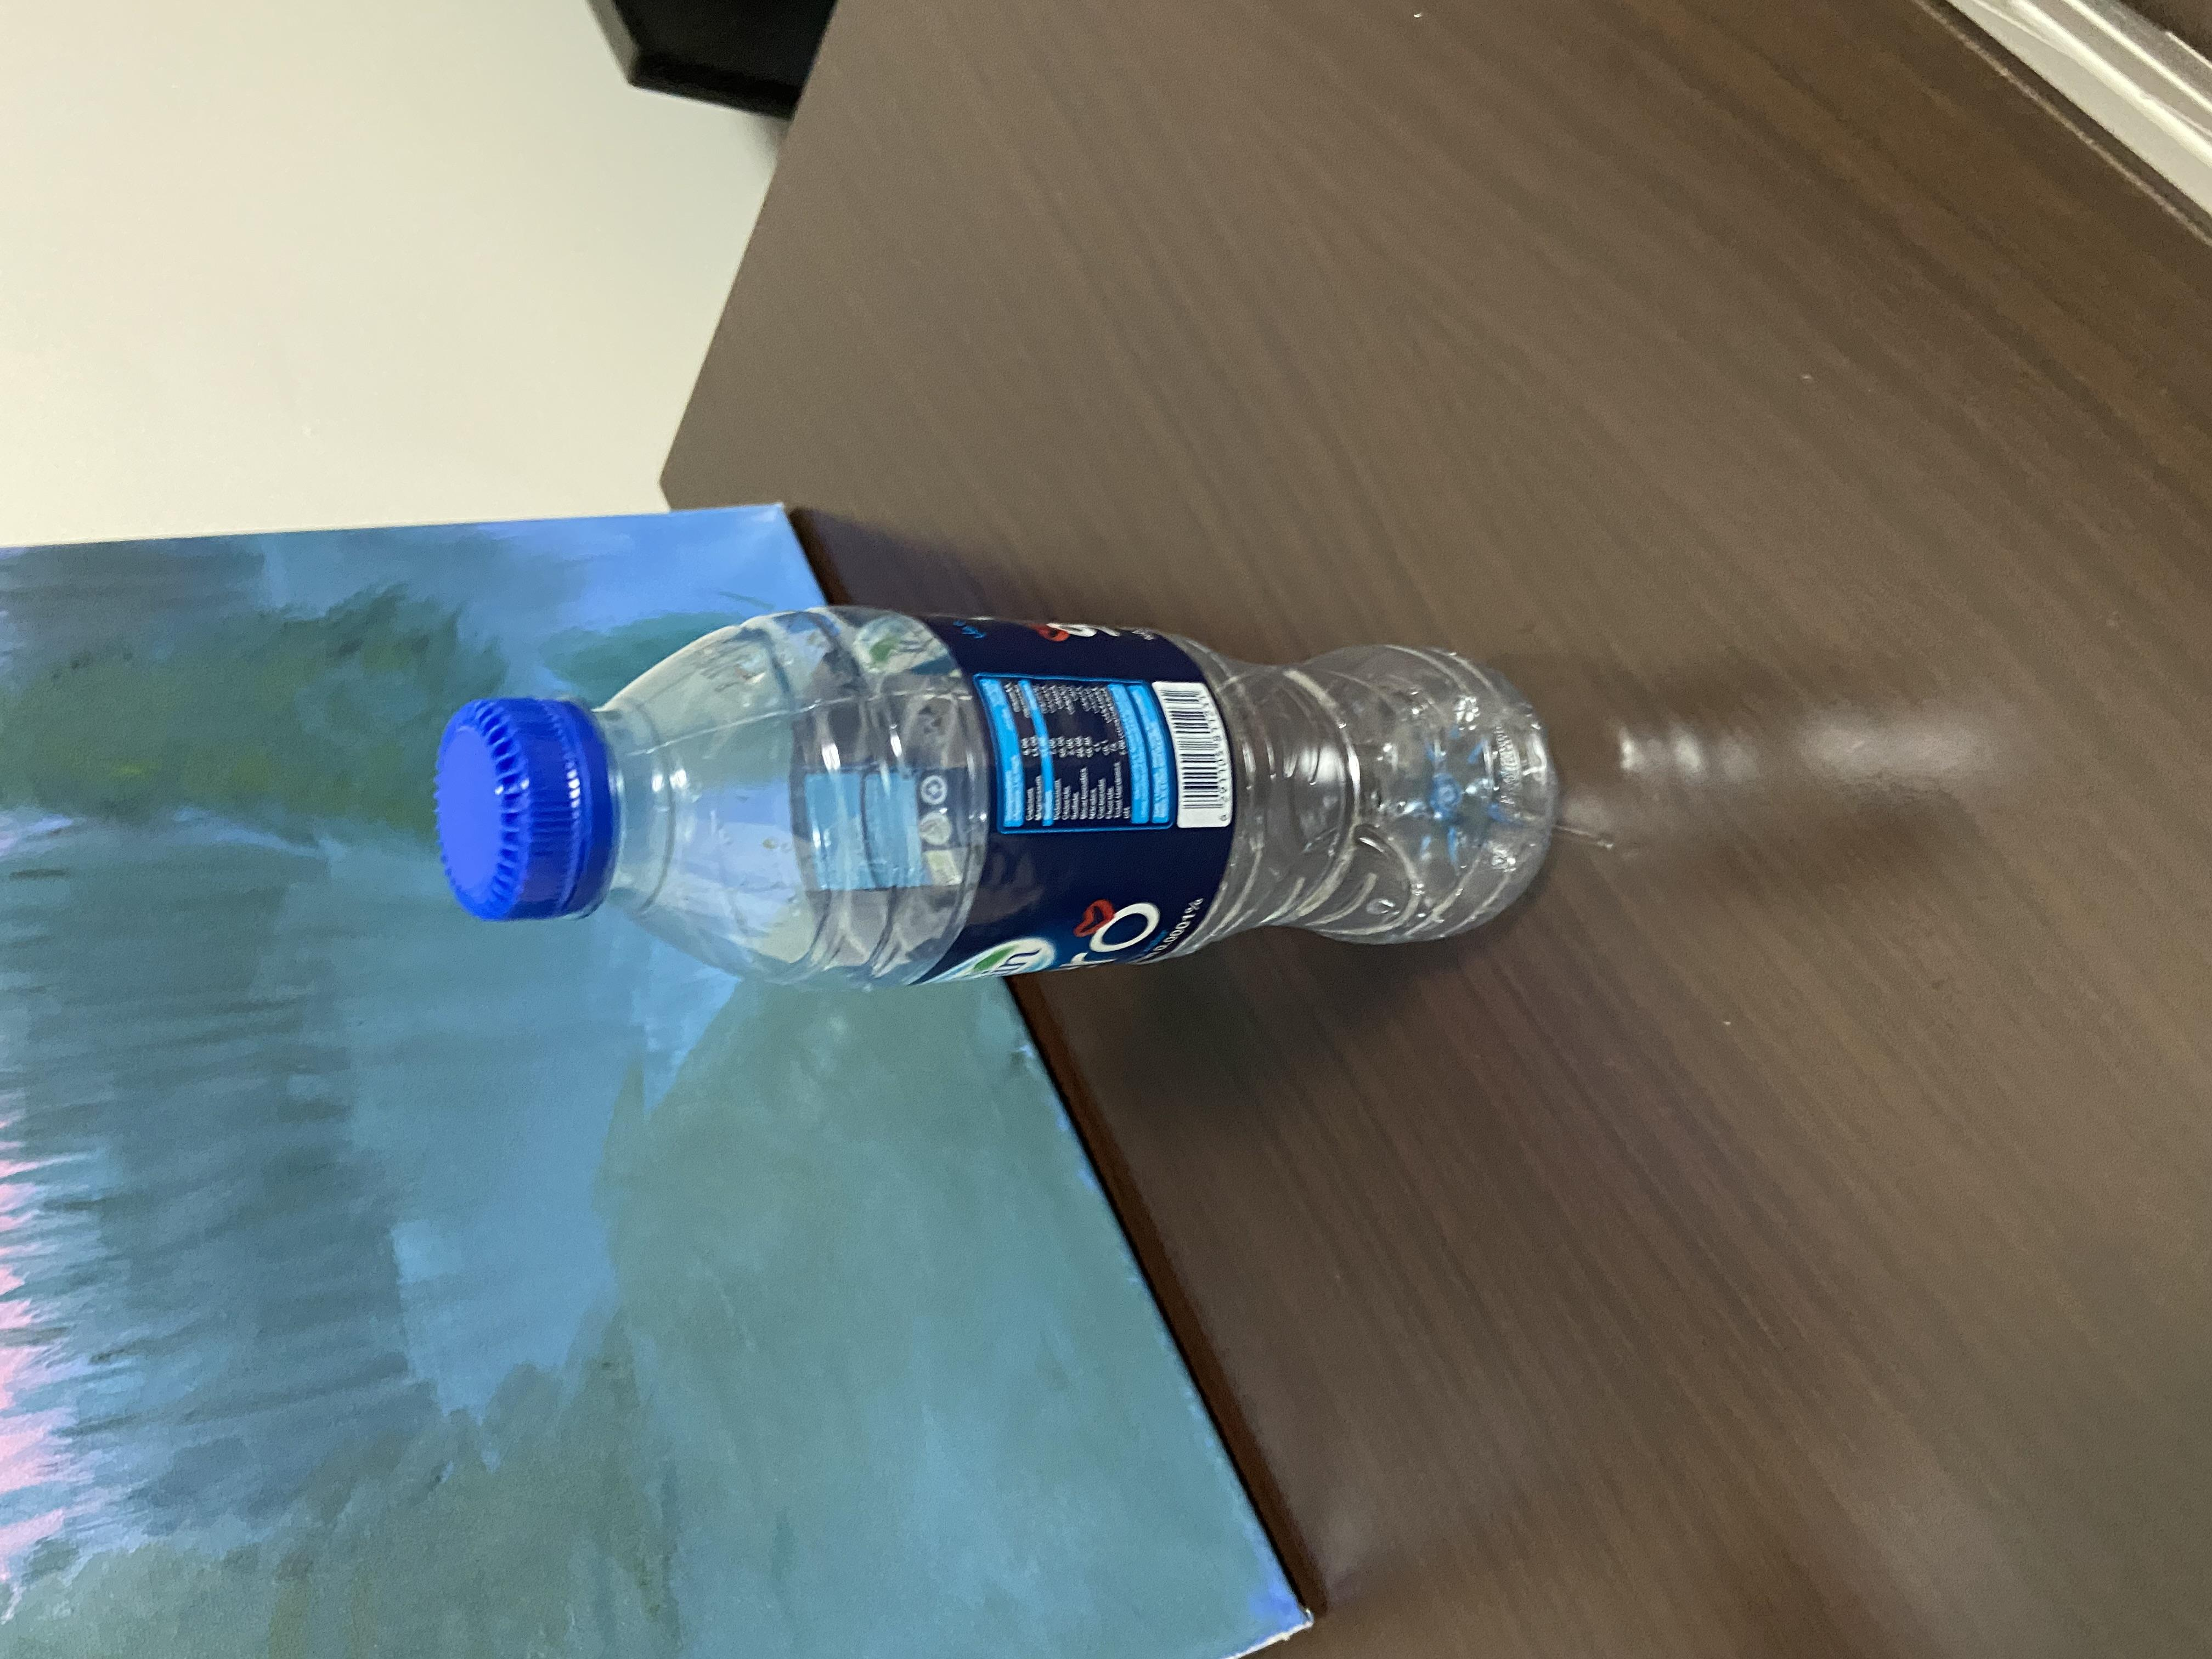bottle: (817, 289, 1474, 1182)
